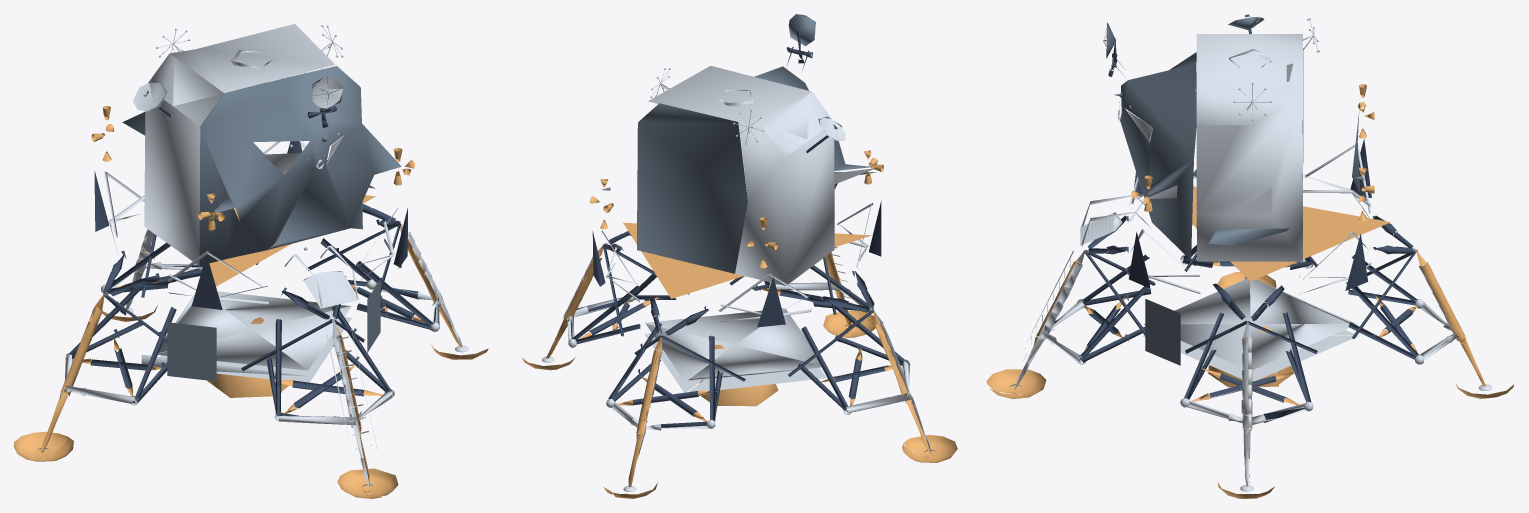
Rendered from apollo_descenso.glb.
3 renders of one model, left to right at view 1: azimuth 30°, elevation 25°; view 2: azimuth 150°, elevation 25°; view 3: azimuth 270°, elevation 25°, orthographic. The views are drawn at different scales.
Visible parts, largest first — view 1: apollo_descenso; view 2: apollo_descenso; view 3: apollo_descenso.
Part boxes in pixels (box(x1,y1,x2,y2)): apollo_descenso: box(14, 24, 488, 498); apollo_descenso: box(521, 14, 957, 498); apollo_descenso: box(986, 14, 1513, 498).
Bounding box in the file's own units: 4.48 × 3.49 × 4.5.
